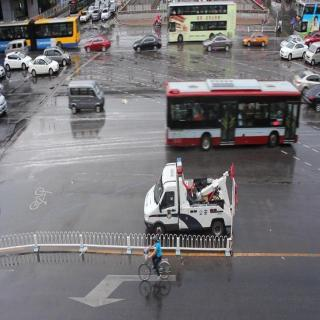BigCar: (162, 70, 303, 163), (166, 0, 238, 44), (0, 16, 81, 50)
Car: (136, 154, 240, 245), (61, 75, 108, 116), (27, 53, 59, 82), (132, 31, 164, 58), (203, 32, 236, 56), (3, 49, 32, 74), (82, 32, 110, 57), (42, 47, 72, 70), (242, 27, 269, 51), (280, 39, 306, 61), (306, 40, 320, 66), (79, 7, 90, 26), (90, 6, 101, 24), (100, 6, 112, 22)
